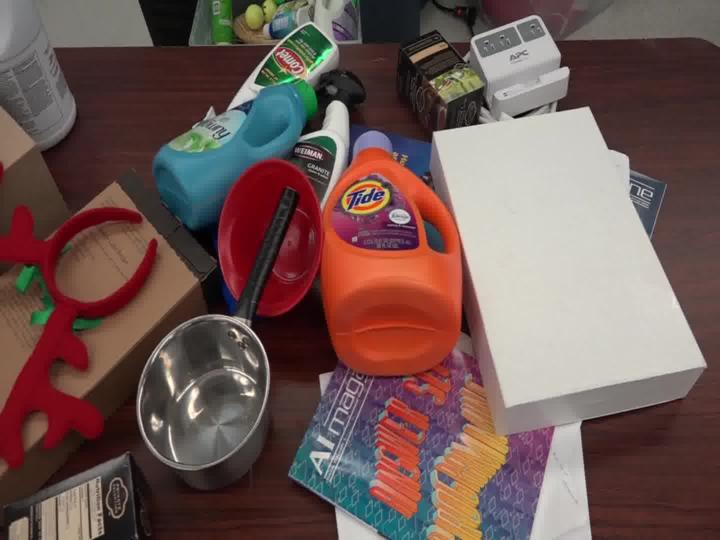tide: (296, 102, 485, 378)
